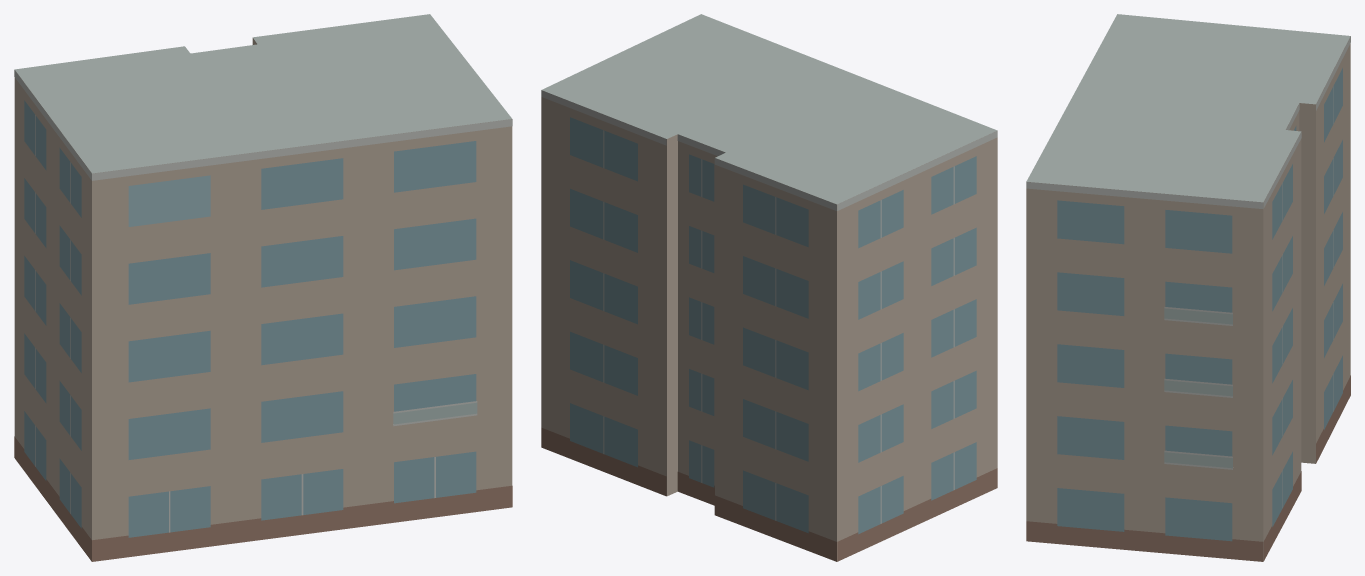
Rendered from survey-upis-32754702.glb.
The picture shows the model from 3 angles, left to right: view 1: azimuth 30°, elevation 25°; view 2: azimuth 150°, elevation 25°; view 3: azimuth 270°, elevation 25°; orthographic projection. The views are drawn at different scales.
Visible parts, largest first — view 1: survey-upis-32754702.tmp; view 2: survey-upis-32754702.tmp; view 3: survey-upis-32754702.tmp.
Boxes of the visible parts, box(x1,y1,x2,y2) form: survey-upis-32754702.tmp: box(14, 14, 512, 561); survey-upis-32754702.tmp: box(541, 14, 997, 561); survey-upis-32754702.tmp: box(1026, 14, 1350, 561).
Size of the model in its own units: 14.45 by 12.85 by 10.52.
